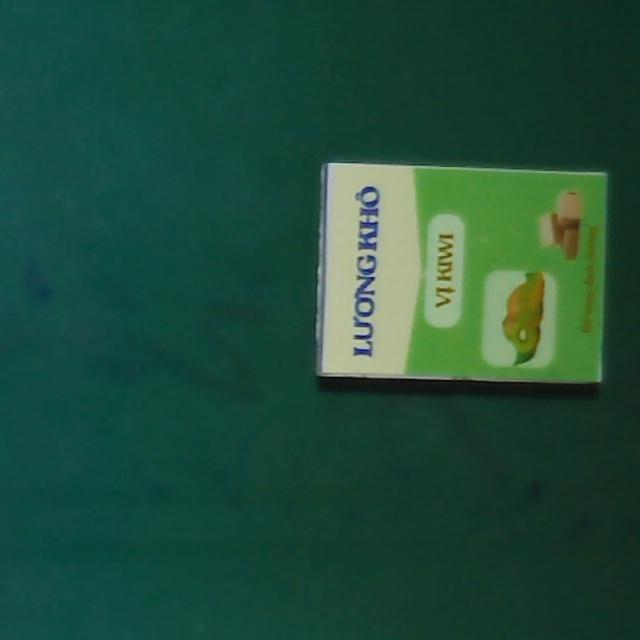kiwi: (313, 161, 612, 386)
